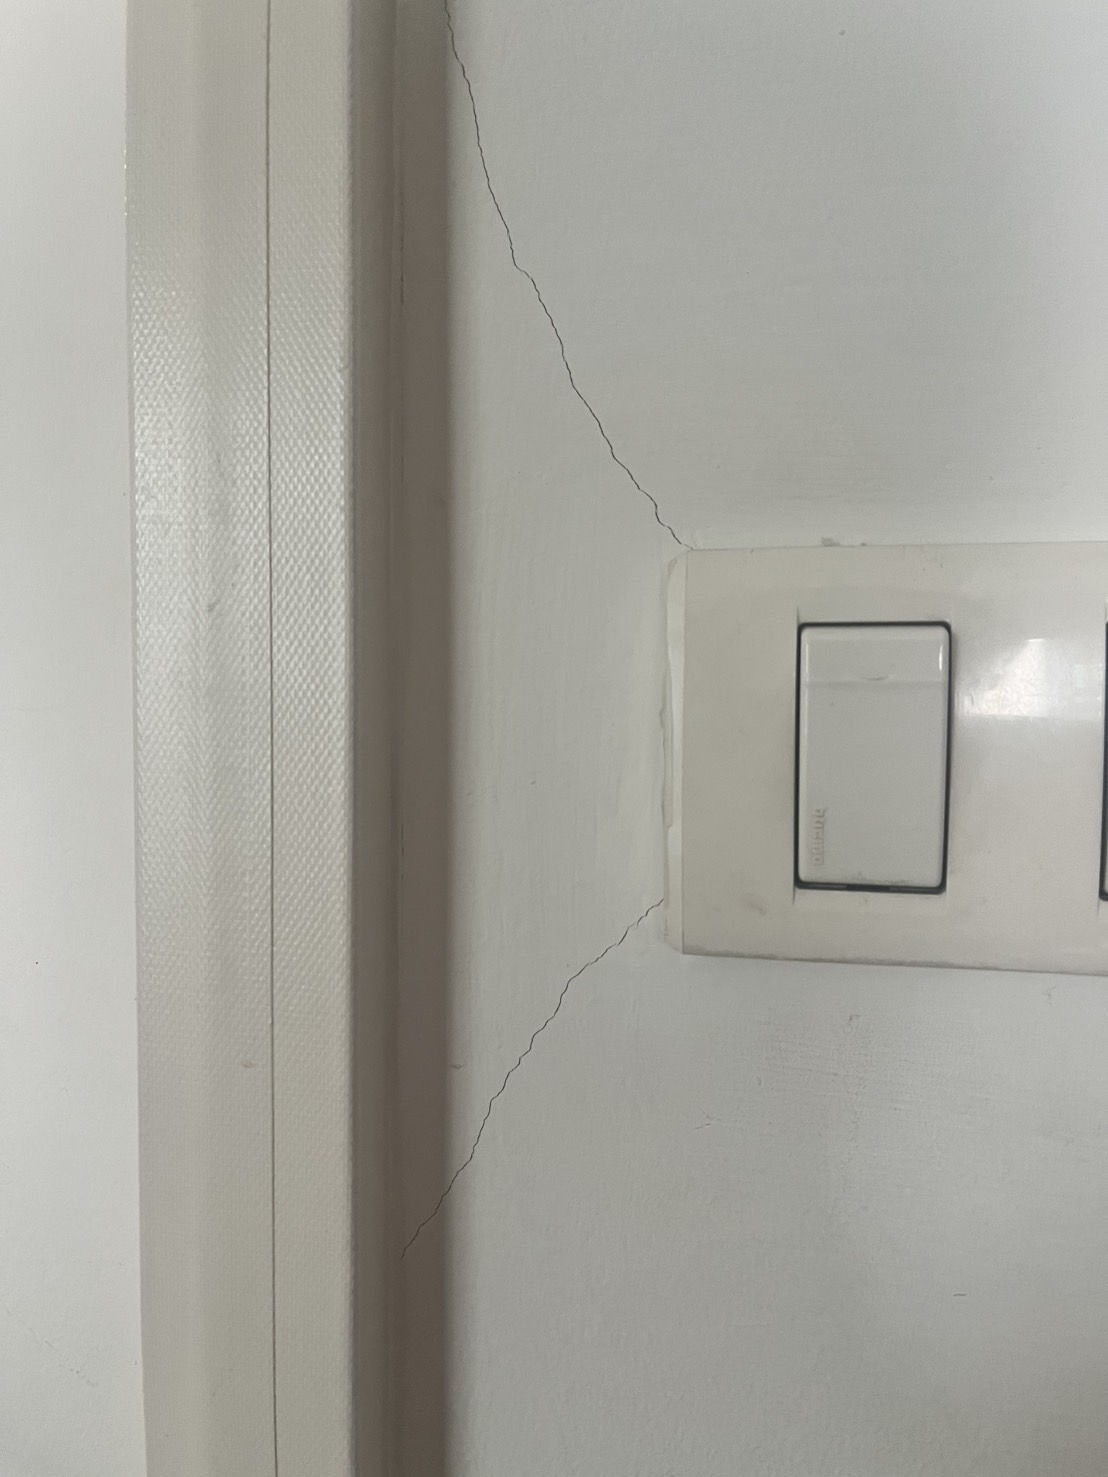Low: (358, 1, 694, 1293)
